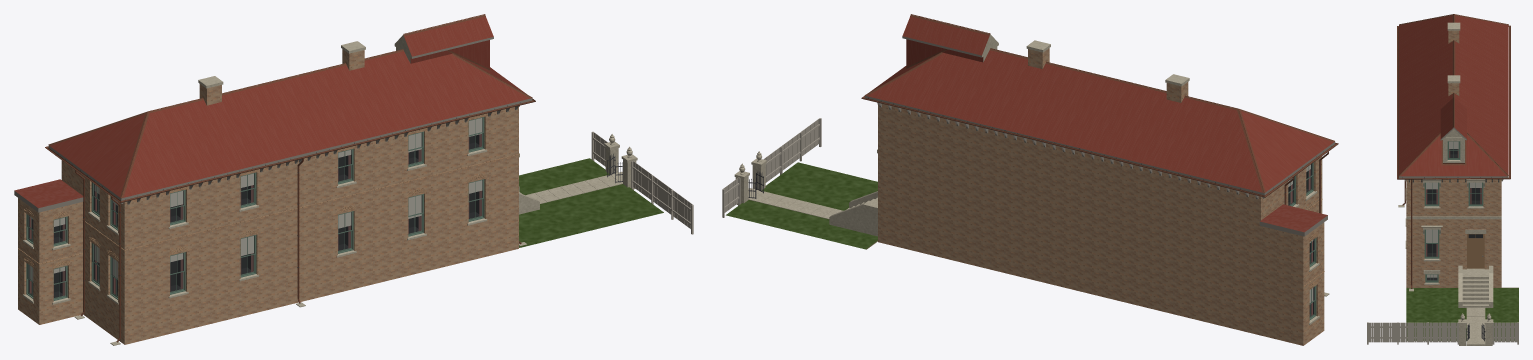
File: house_1616_prairie__as_mapped_1904.glb
3 views of the same model, side by side, from view 1: azimuth 30°, elevation 25°; view 2: azimuth 150°, elevation 25°; view 3: azimuth 270°, elevation 25° (orthographic). The views are drawn at different scales.
Parts seen in each view (by area): view 1: house_1616_prairie__as_mapped_1904; view 2: house_1616_prairie__as_mapped_1904; view 3: house_1616_prairie__as_mapped_1904.
Part boxes in pixels (x1,y1,x2,y2): house_1616_prairie__as_mapped_1904: [14, 14, 693, 345]; house_1616_prairie__as_mapped_1904: [722, 14, 1338, 345]; house_1616_prairie__as_mapped_1904: [1367, 14, 1518, 345].
Size of the model in its own units: 35.51 by 12.24 by 10.38.
Materials: 23 (12 with a texture image).
